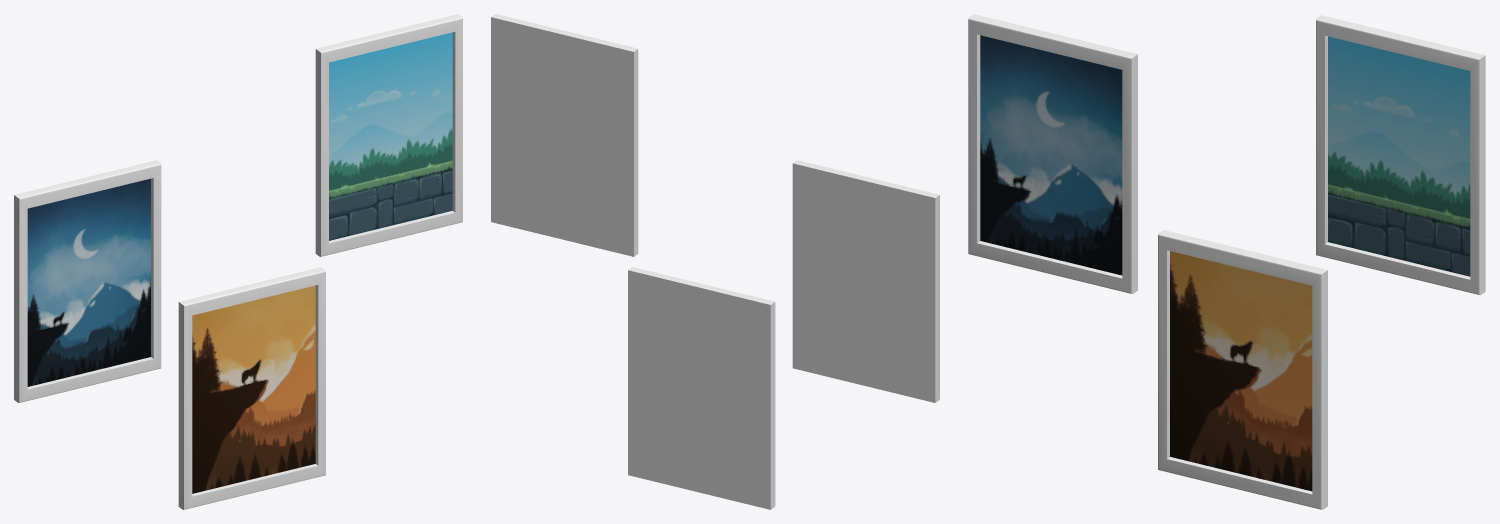
Rendered from Frame.fbx.
The picture shows the model from 3 angles, left to right: view 1: azimuth 30°, elevation 25°; view 2: azimuth 150°, elevation 25°; view 3: azimuth 330°, elevation 25°; orthographic projection. The views are drawn at different scales.
Visible parts, largest first — view 1: Frame; view 2: Frame; view 3: Frame.
Part boxes in pixels (x1,y1,x2,y2): Frame: (14,14,462,509); Frame: (491,14,939,509); Frame: (968,14,1485,509).
Size of the model in its own units: 15.81 by 14.44 by 0.3162.
